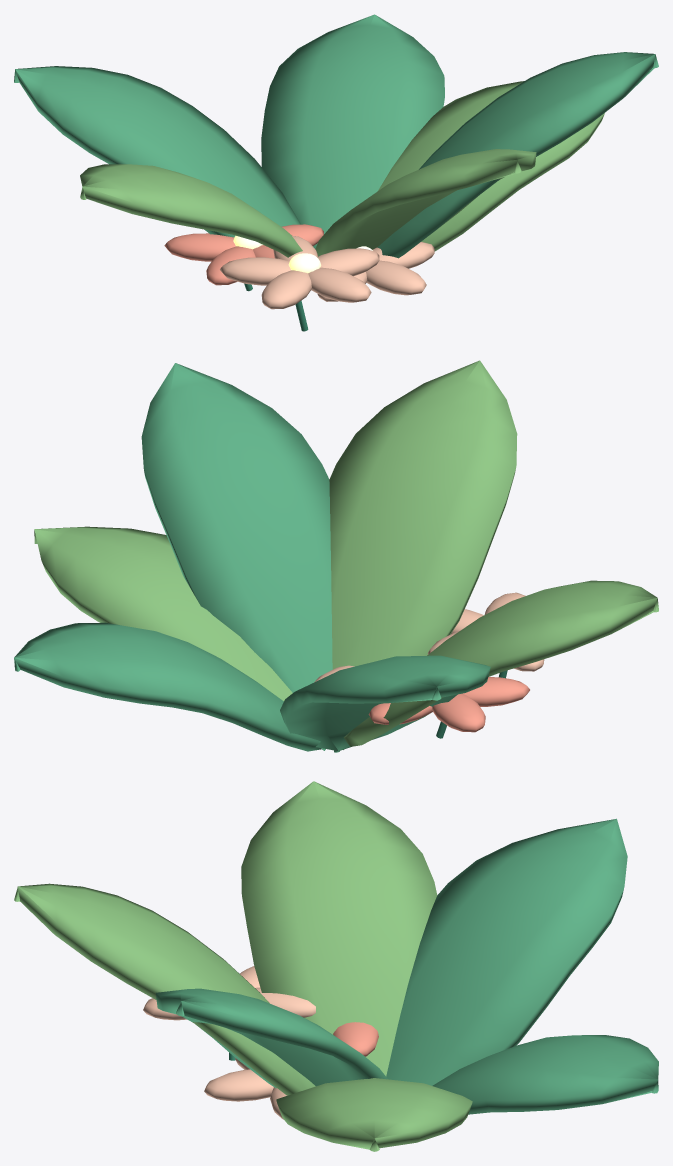
File: rainforest_decor_b.glb
The picture shows the model from 3 angles, top to bottom: view 1: azimuth 30°, elevation 25°; view 2: azimuth 150°, elevation 25°; view 3: azimuth 270°, elevation 25°; orthographic projection. The views are drawn at different scales.
Parts seen in each view (by area): view 1: Batched V2 rainforest middle foliage, Batched V2 rainforest leaf_light, Batched V2 rainforest pale petal, Batched V2 rainforest warm, Batched V2 rainforest glow; view 2: Batched V2 rainforest leaf_light, Batched V2 rainforest middle foliage, Batched V2 rainforest warm, Batched V2 rainforest pale petal; view 3: Batched V2 rainforest leaf_light, Batched V2 rainforest middle foliage, Batched V2 rainforest pale petal, Batched V2 rainforest warm.
Part boxes in pixels (x1,y1,x2,y2): Batched V2 rainforest middle foliage: (14,14,658,258); Batched V2 rainforest leaf_light: (80,81,604,257); Batched V2 rainforest pale petal: (220,235,434,309); Batched V2 rainforest warm: (164,224,323,285); Batched V2 rainforest glow: (233,235,372,273); Batched V2 rainforest leaf_light: (34,360,658,749); Batched V2 rainforest middle foliage: (14,363,490,752); Batched V2 rainforest warm: (368,677,529,732); Batched V2 rainforest pale petal: (314,592,544,682); Batched V2 rainforest leaf_light: (14,781,472,1151); Batched V2 rainforest middle foliage: (155,818,658,1114); Batched V2 rainforest pale petal: (143,966,315,1119); Batched V2 rainforest warm: (333,1022,378,1056).
Size of the model in its own units: 1.46 by 0.6026 by 1.33.
